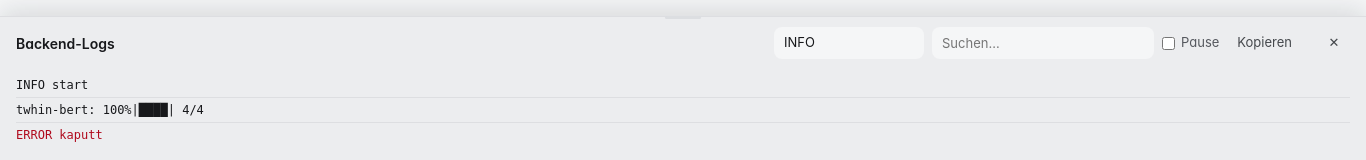
Test case: LogDrawer als Konsole › Kopieren: deaktiviert, wenn keine Zeile sichtbar ist
Expected: the button with class "copy-btn" is enabled, [1227,27,1302,59]
In the search field with class "search-input": (1043, 43) [932,27,1154,59], type "gibt-es-nicht"
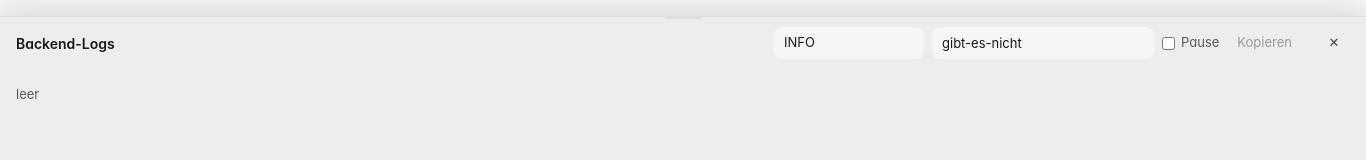
Expected: the button with class "copy-btn" is disabled, [1227,27,1302,59]
